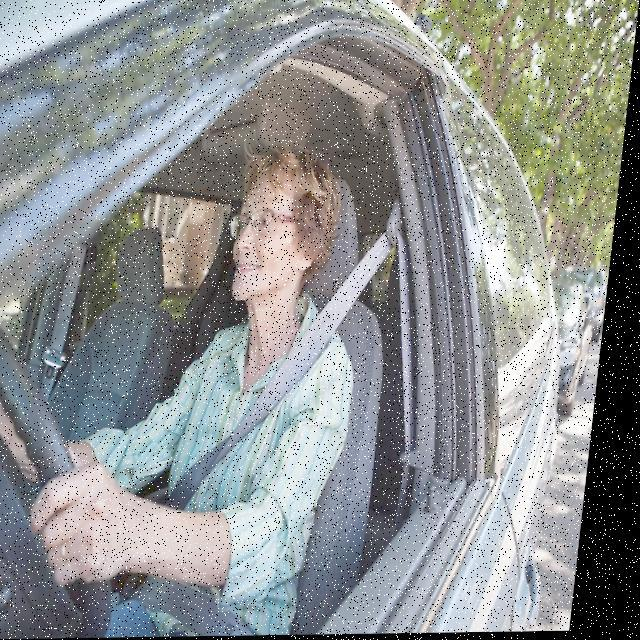seatbelt: (185, 266, 372, 616)
